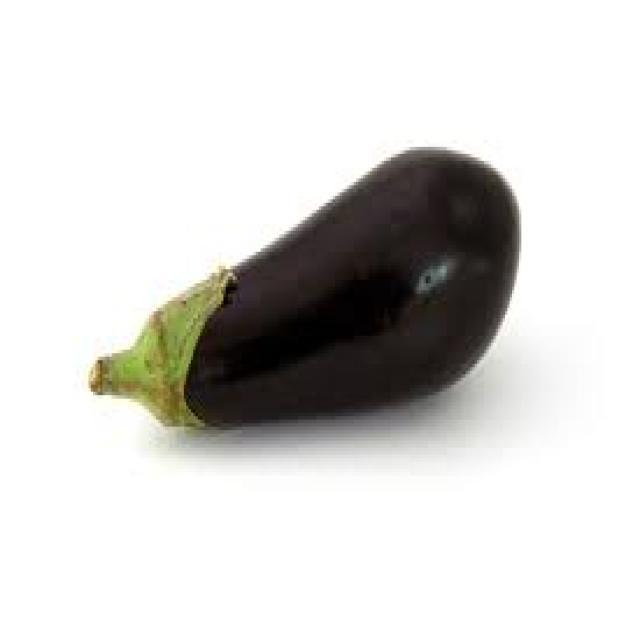Aubergine: (56, 126, 552, 448)
